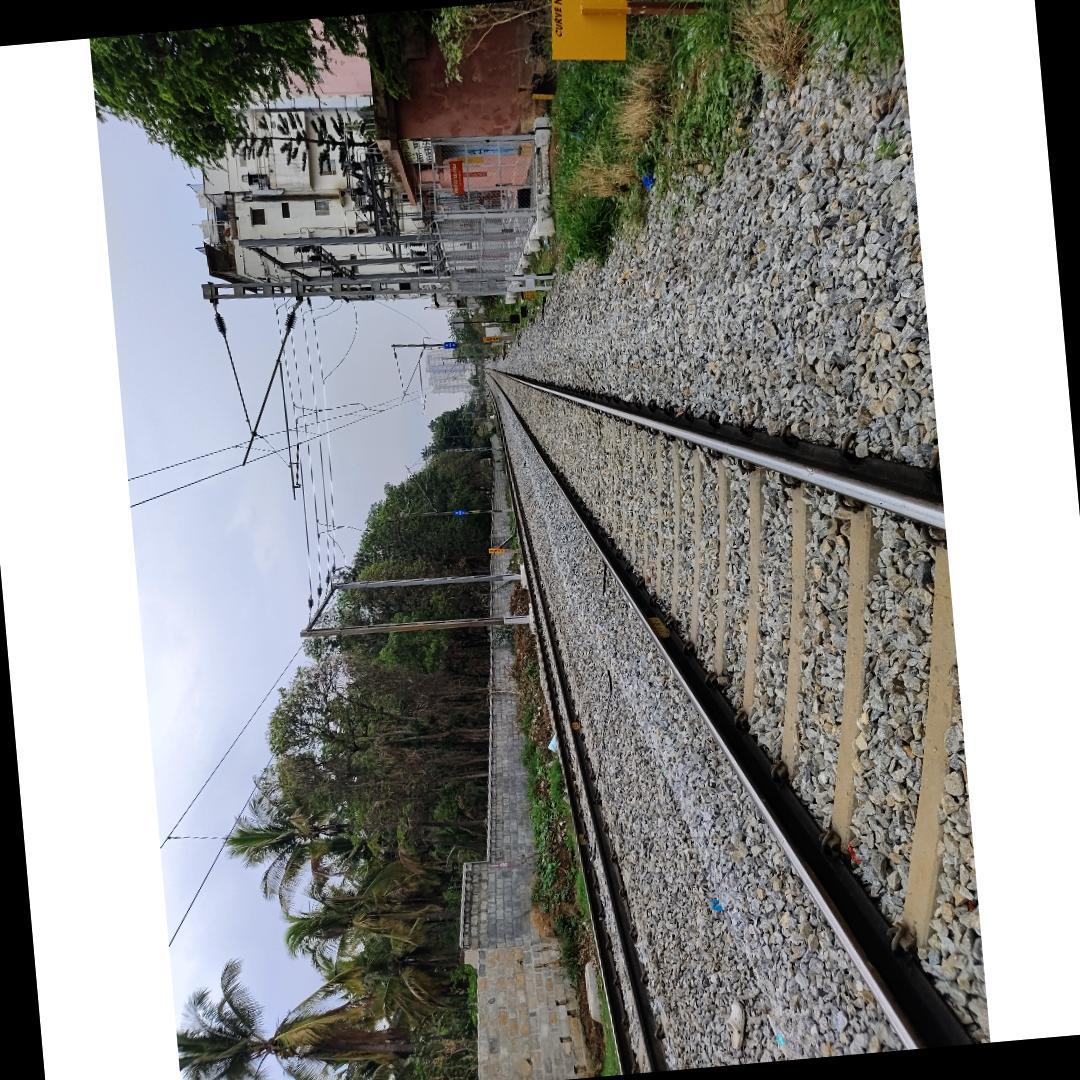track: (482, 340, 991, 1057)
